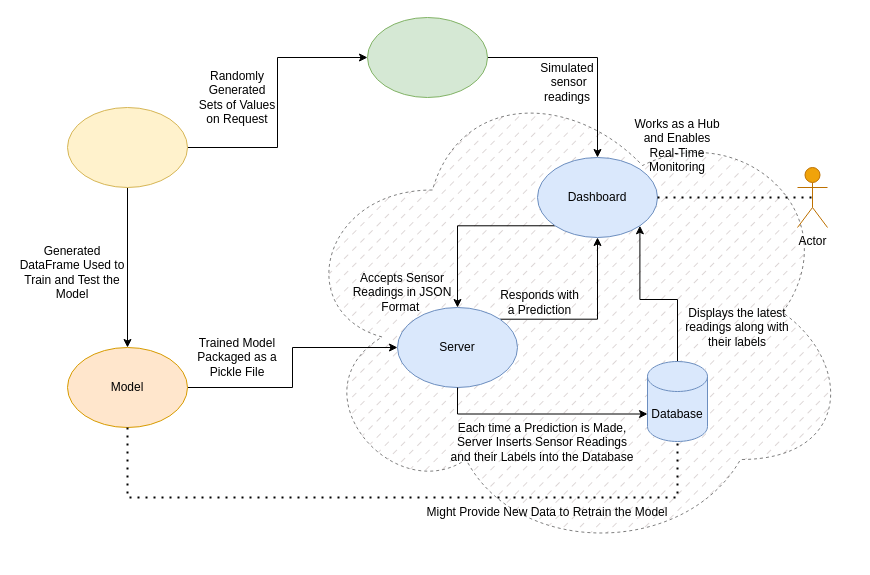
Some shapes in this 870 by 575 pixel diagram are drawn without their labels. The centre of each missing label's shape, as x and y in pixels:
"Dummy Data Generator" goes at (x=127, y=147).
"Node" goes at (x=427, y=57).
